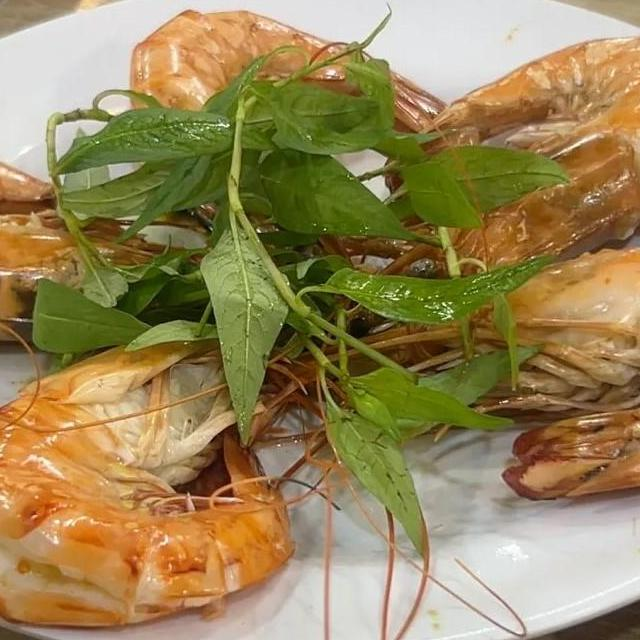rau ram: (24, 5, 575, 562)
tom: (121, 3, 455, 286), (0, 320, 300, 634), (355, 27, 640, 320), (404, 205, 640, 506), (0, 136, 246, 352)
